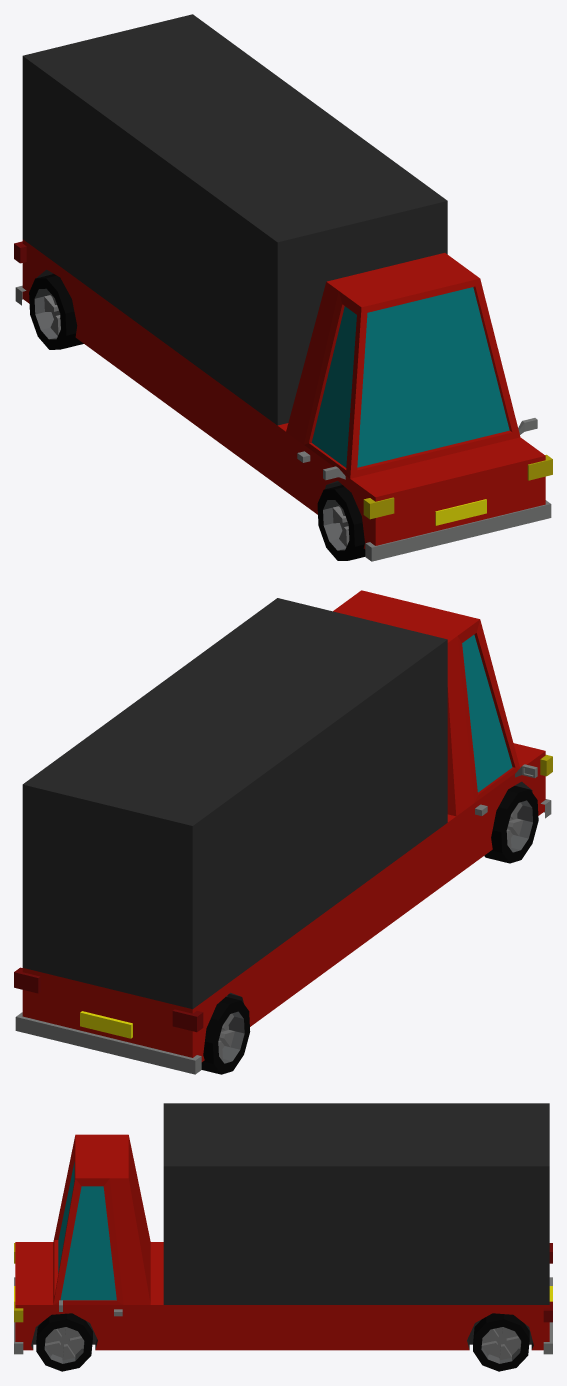
File: Truck1.fbx
The picture shows the model from 3 angles, top to bottom: view 1: azimuth 30°, elevation 25°; view 2: azimuth 150°, elevation 25°; view 3: azimuth 270°, elevation 25°; orthographic projection. The views are drawn at different scales.
Parts seen in each view (by area): view 1: Truck1; view 2: Truck1; view 3: Truck1.
Part boxes in pixels (box(x1,y1,x2,y2)): Truck1: box(14, 14, 552, 561); Truck1: box(14, 590, 552, 1074); Truck1: box(14, 1103, 552, 1371).
Bounding box in the file's own units: 2.59 × 3.13 × 7.54.
